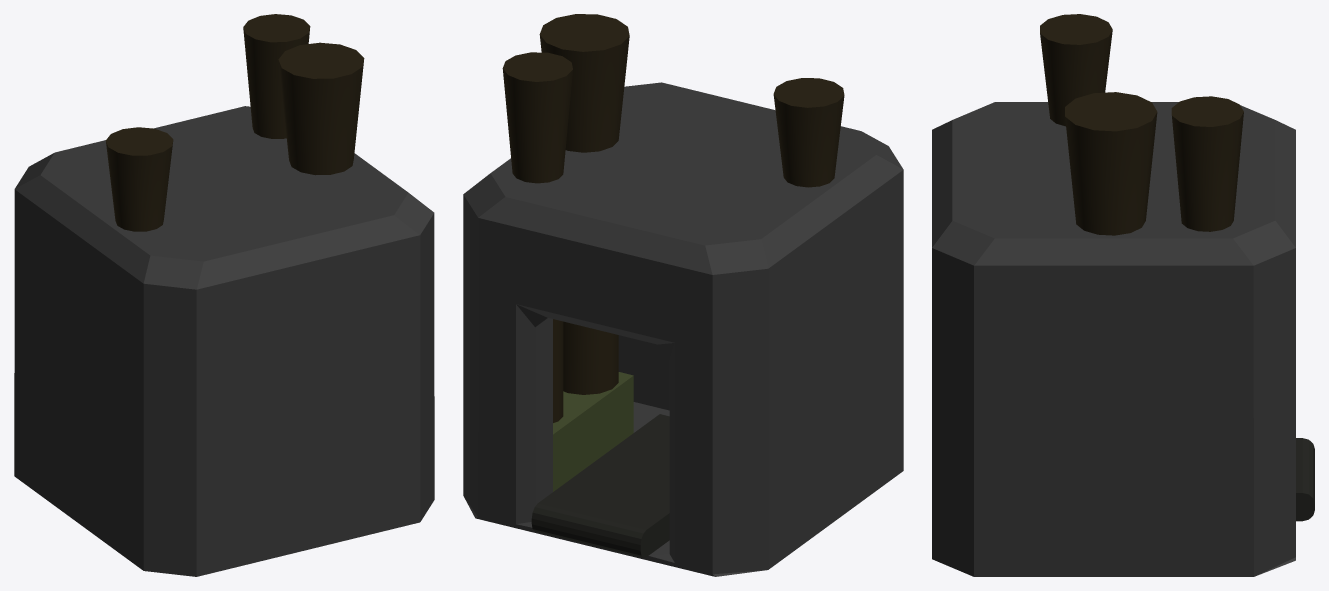
File: FactoryAnim.fbx
The picture shows the model from 3 angles, left to right: view 1: azimuth 30°, elevation 25°; view 2: azimuth 150°, elevation 25°; view 3: azimuth 270°, elevation 25°; orthographic projection. The views are drawn at different scales.
Parts seen in each view (by area): view 1: FactoryAnim; view 2: FactoryAnim; view 3: FactoryAnim.
Boxes of the visible parts, x1,y1,x2,y2 form: FactoryAnim: (14, 14, 434, 576); FactoryAnim: (463, 14, 903, 576); FactoryAnim: (932, 14, 1314, 576).
Bounding box in the file's own units: 3.1 × 4.13 × 3.27.
